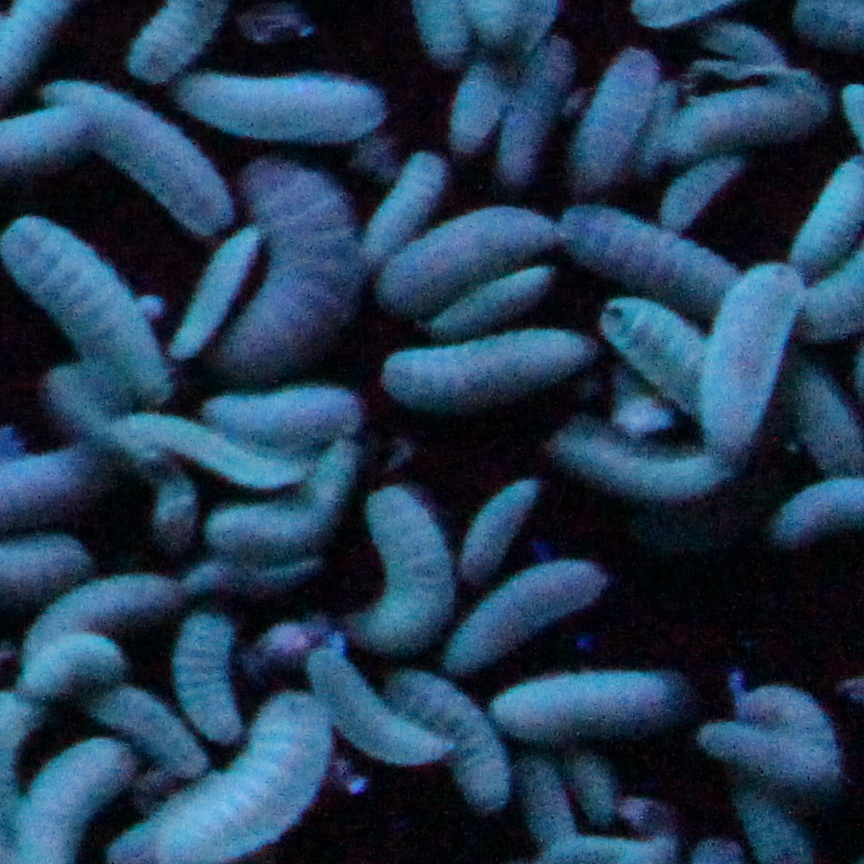larve: (212, 148, 377, 375), (2, 210, 179, 403), (129, 695, 349, 850), (47, 90, 227, 238), (699, 248, 797, 473), (587, 298, 752, 430), (469, 645, 692, 740), (204, 428, 359, 555), (302, 638, 449, 768), (544, 403, 724, 508), (369, 320, 587, 403), (177, 65, 389, 145), (362, 483, 452, 668), (384, 210, 564, 298), (399, 673, 517, 800), (567, 203, 757, 280), (7, 723, 124, 845), (124, 410, 312, 485), (474, 548, 609, 648), (687, 705, 834, 790), (174, 220, 254, 360), (669, 90, 822, 163), (582, 33, 654, 185), (172, 600, 239, 748), (767, 455, 854, 563), (29, 583, 177, 643), (109, 683, 207, 773), (447, 23, 517, 143), (779, 153, 854, 265), (554, 800, 702, 855), (467, 478, 539, 583), (382, 140, 444, 260), (744, 678, 839, 748), (27, 635, 124, 698), (512, 763, 579, 838), (737, 788, 807, 853), (564, 760, 622, 818)
